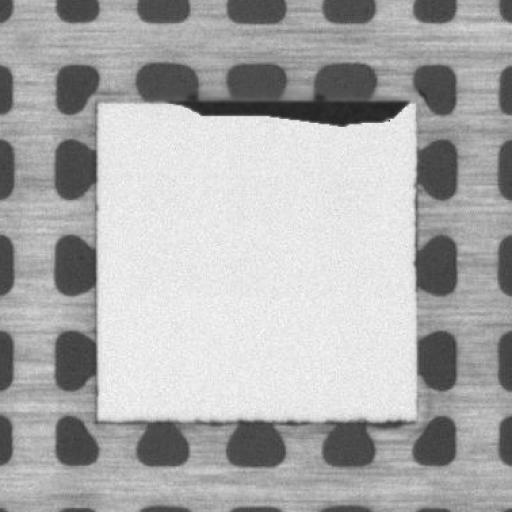DIE_BROKEN: (167, 95, 405, 127)
